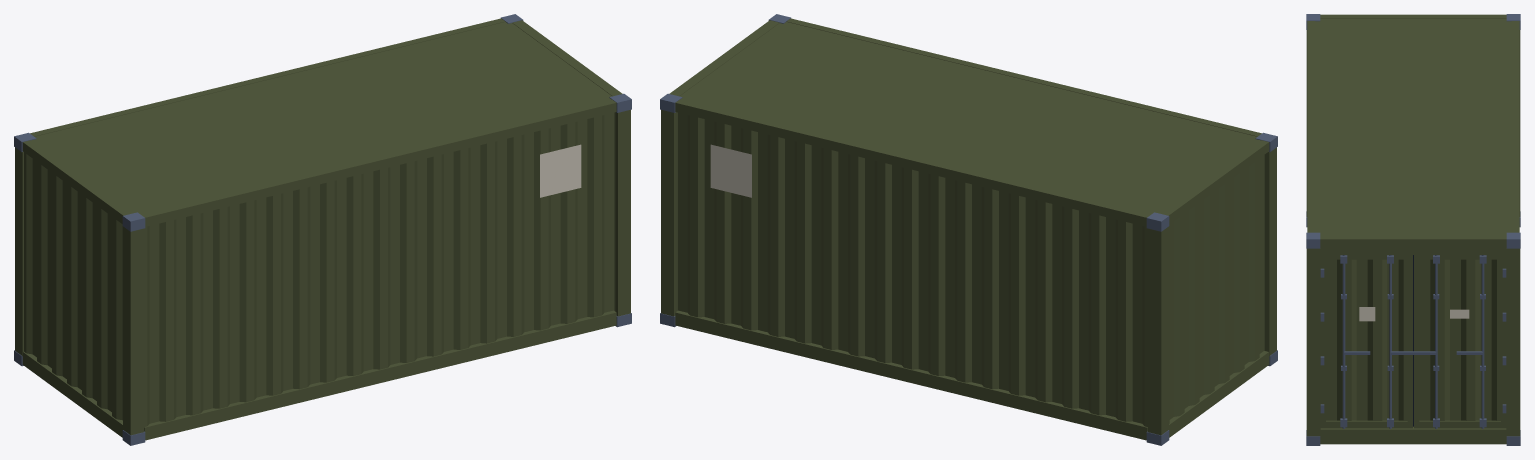
File: port_container_20_olive.glb
The picture shows the model from 3 angles, left to right: view 1: azimuth 30°, elevation 25°; view 2: azimuth 150°, elevation 25°; view 3: azimuth 270°, elevation 25°; orthographic projection. The views are drawn at different scales.
Parts seen in each view (by area): view 1: shell, stencil, hardware; view 2: shell, stencil, hardware; view 3: shell, hardware, warning.
Boxes of the visible parts, bbox=[...] form: shell: bbox=[15, 18, 630, 440]; stencil: bbox=[540, 144, 581, 197]; hardware: bbox=[14, 14, 631, 445]; shell: bbox=[661, 18, 1276, 440]; stencil: bbox=[710, 144, 751, 197]; hardware: bbox=[660, 14, 1277, 445]; shell: bbox=[1306, 14, 1520, 444]; hardware: bbox=[1306, 14, 1520, 445]; warning: bbox=[1359, 307, 1375, 321].
Bounding box in the file's own units: 6.06 × 2.59 × 2.44.
